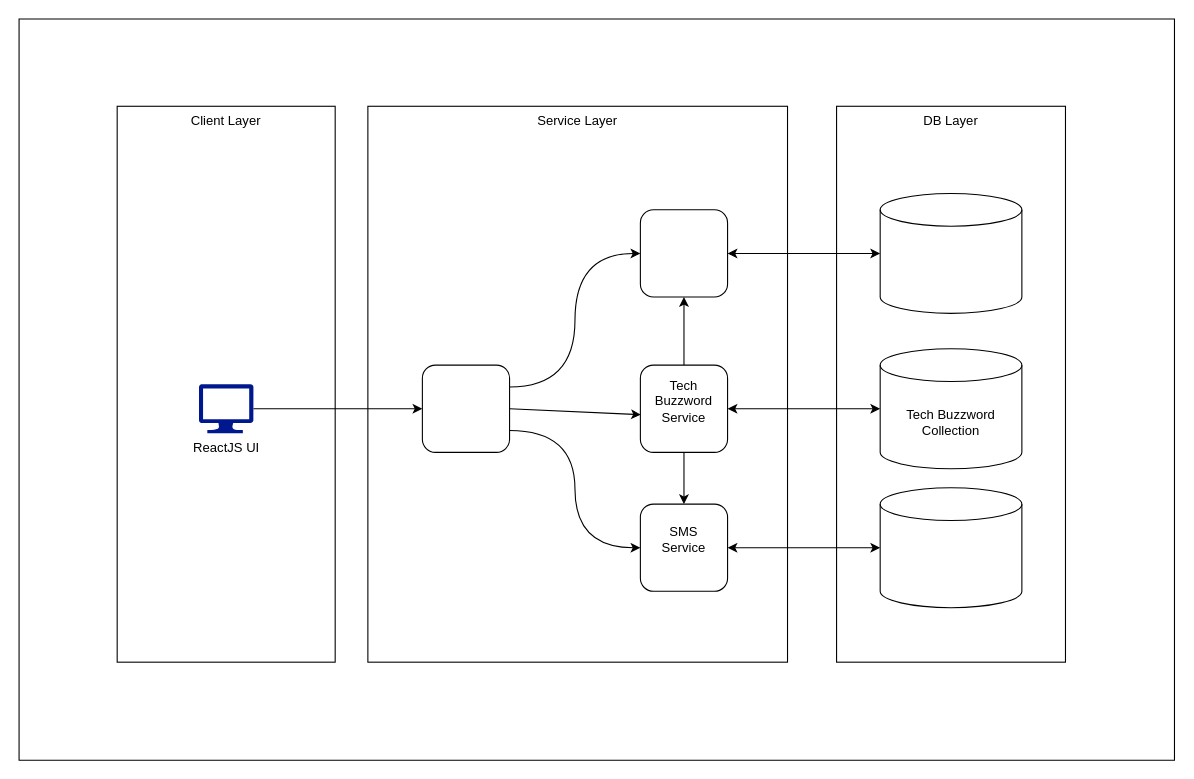
This 1194x779 diagram has some shape labels left out. Each missing label, with the centre of its shape:
Email Service: (683,253)
Email Users Collection: (950,252)
Load Balancer: (465,408)
SMS Users Collection: (950,547)
